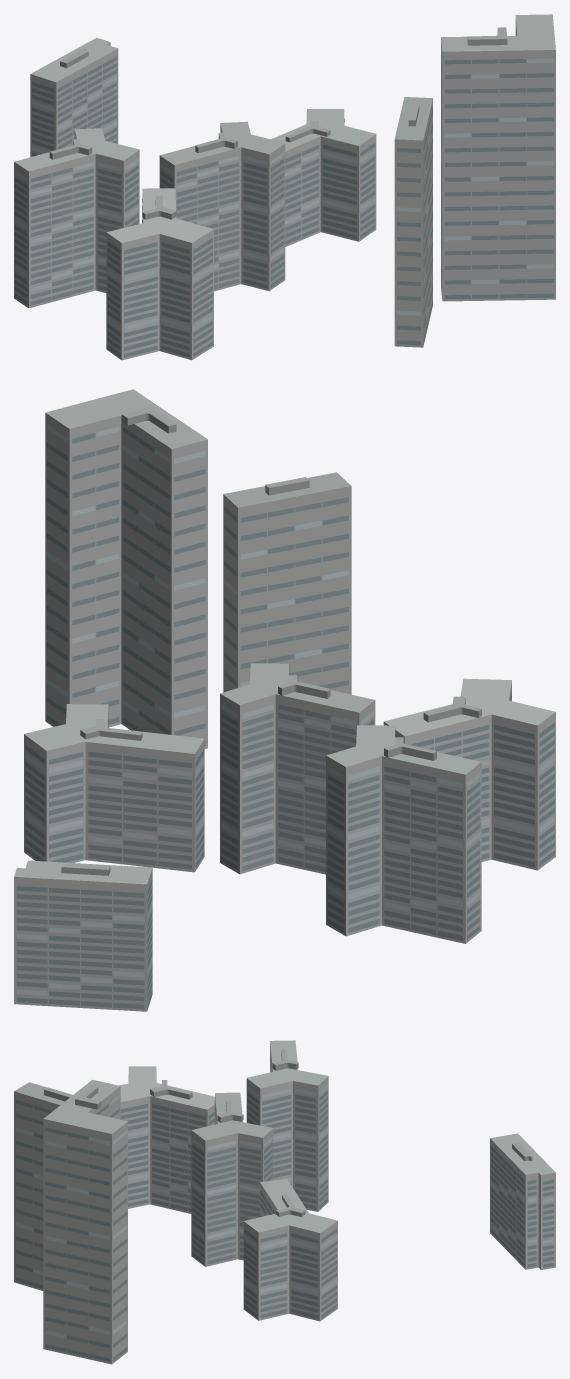
File: apt-a10026924.glb
The picture shows the model from 3 angles, top to bottom: view 1: azimuth 30°, elevation 25°; view 2: azimuth 150°, elevation 25°; view 3: azimuth 270°, elevation 25°; orthographic projection. The views are drawn at different scales.
Parts seen in each view (by area): view 1: apt-a10026924; view 2: apt-a10026924; view 3: apt-a10026924.
Boxes of the visible parts, x1,y1,x2,y2 form: apt-a10026924: [14, 14, 555, 360]; apt-a10026924: [14, 389, 555, 1011]; apt-a10026924: [14, 1040, 555, 1364].
Size of the model in its own units: 183 by 102 by 212.
